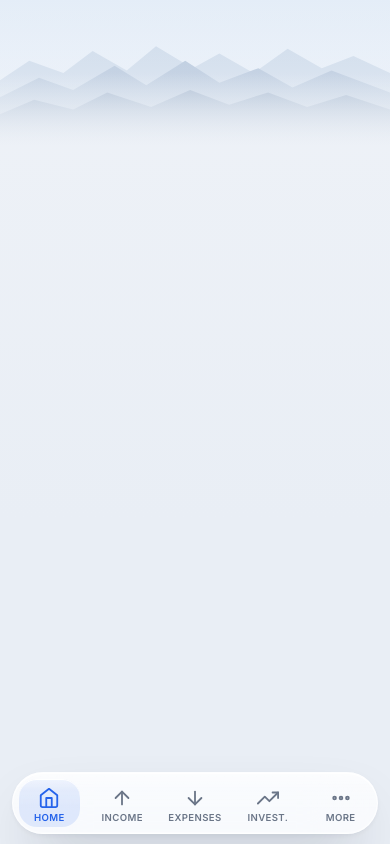
Test: Sidebar mobile navigation › keeps the four direct tabs and reaches the rest through More
expect the navigation bar named "Mobile navigation" is shown: met, box x1=12 y1=772 x2=378 y2=834
expect the link with aria-label "Investments" reads "Invest.": met, box x1=248 y1=787 x2=288 y2=823
Click the button "More" at [341, 803], box x1=304 y1=773 x2=377 y2=833
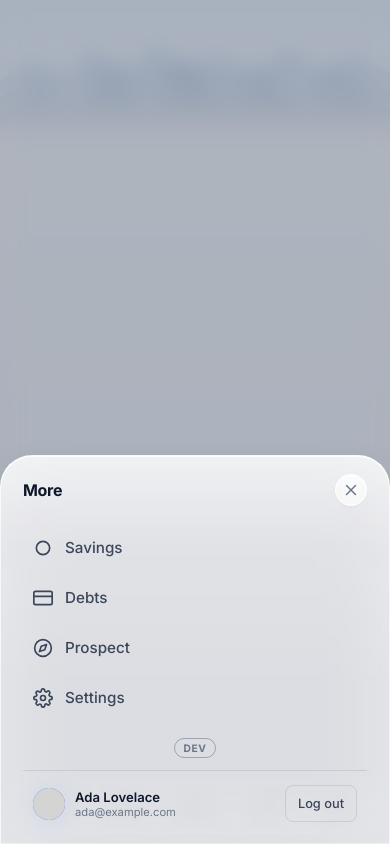
expect the text "ada@example.com" is shown: met, box x1=75 y1=804 x2=176 y2=818
